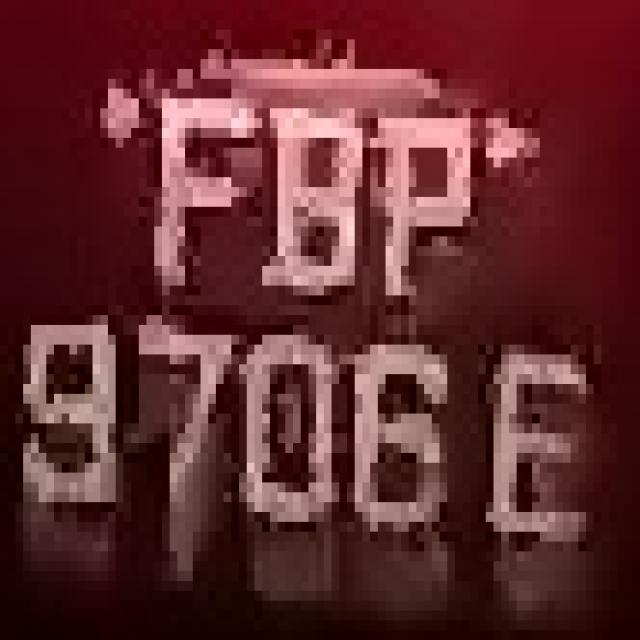0: (247, 276, 347, 542)
6: (355, 296, 470, 552)
7: (131, 296, 239, 542)
9: (8, 296, 123, 542)
B: (247, 79, 362, 315)
E: (486, 295, 594, 571)
F: (139, 69, 254, 295)
P: (355, 69, 478, 295)
